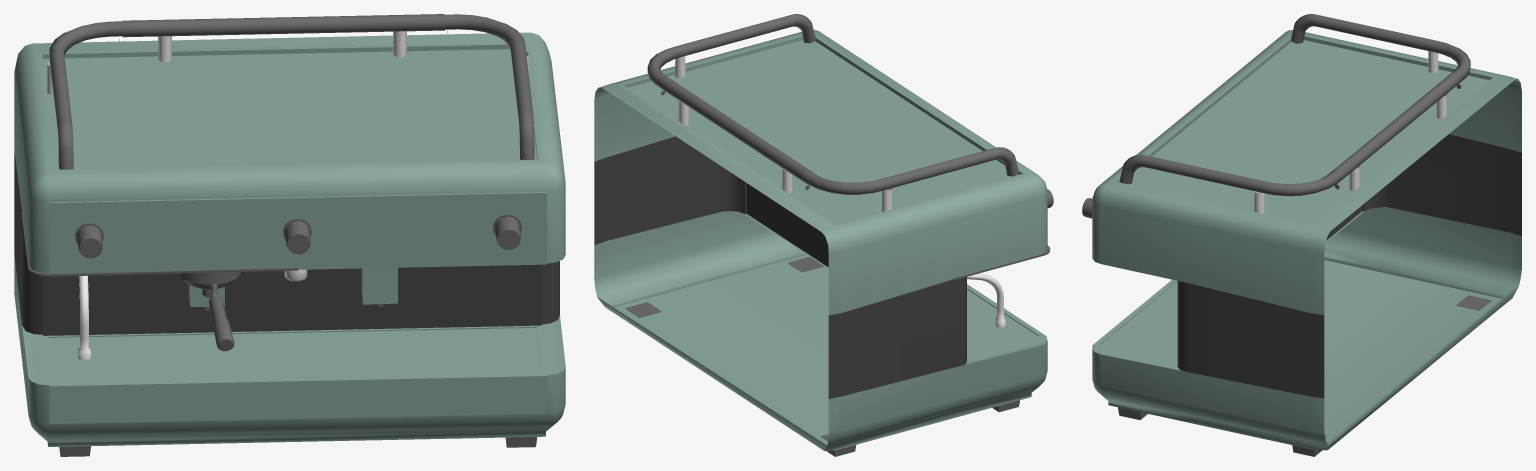
File: coffeeshop_machine_level03.glb
The picture shows the model from 3 angles, left to right: view 1: azimuth 30°, elevation 25°; view 2: azimuth 150°, elevation 25°; view 3: azimuth 270°, elevation 25°; orthographic projection. The views are drawn at different scales.
Visible parts, largest first — view 1: Level3_CoffeeMachine; view 2: Level3_CoffeeMachine; view 3: Level3_CoffeeMachine.
Part boxes in pixels (box(x1,y1,x2,y2)): Level3_CoffeeMachine: box(14, 14, 565, 456); Level3_CoffeeMachine: box(594, 14, 1053, 456); Level3_CoffeeMachine: box(1082, 14, 1521, 456).
Bounding box in the file's own units: 3.12 × 1.8 × 2.72.
